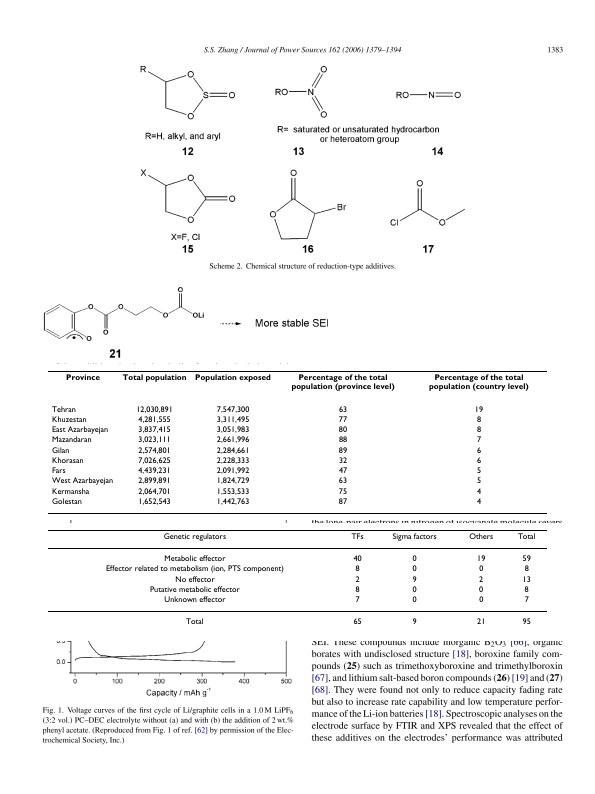borderless: (47, 369, 547, 513), (46, 528, 548, 635)
cell: (290, 374, 395, 392), (428, 374, 529, 392), (104, 565, 284, 575), (148, 585, 240, 595), (194, 374, 271, 383), (162, 532, 227, 542), (121, 374, 187, 383), (50, 477, 114, 486), (163, 555, 226, 564), (163, 596, 226, 605), (50, 426, 109, 435), (391, 532, 437, 542), (174, 575, 215, 585), (50, 487, 90, 497), (135, 405, 173, 415), (50, 436, 92, 445), (50, 415, 87, 425), (215, 405, 250, 415), (215, 415, 250, 425), (215, 446, 250, 456), (215, 456, 250, 466), (215, 487, 250, 497), (215, 497, 250, 507), (137, 415, 171, 425), (137, 446, 171, 456), (50, 456, 84, 466), (137, 456, 171, 466), (137, 487, 171, 497), (137, 497, 171, 507), (50, 497, 82, 507), (65, 374, 100, 383), (215, 426, 250, 435), (215, 436, 250, 445), (215, 467, 250, 476), (215, 477, 250, 486), (137, 426, 171, 435), (137, 436, 171, 445), (137, 467, 171, 476), (137, 477, 171, 486), (50, 405, 76, 415), (468, 532, 494, 542), (50, 446, 70, 456), (516, 532, 536, 542), (185, 618, 204, 628), (50, 467, 66, 476), (350, 532, 364, 542), (337, 405, 348, 415), (473, 405, 484, 415), (337, 415, 348, 425), (337, 446, 348, 456), (337, 456, 348, 466), (337, 487, 348, 497), (337, 497, 348, 507), (521, 575, 531, 585), (352, 618, 362, 628), (476, 618, 486, 628), (521, 618, 531, 628), (337, 426, 348, 435), (337, 436, 348, 445), (337, 467, 348, 476), (337, 477, 348, 486), (352, 555, 362, 564), (476, 555, 486, 564), (521, 555, 531, 564), (475, 456, 482, 466), (475, 497, 482, 507), (475, 426, 482, 435), (475, 436, 482, 445), (475, 467, 482, 476), (475, 477, 482, 486), (475, 415, 481, 425), (475, 446, 481, 456), (475, 487, 481, 497), (354, 565, 360, 575), (411, 565, 417, 575), (478, 565, 484, 575), (523, 565, 529, 575), (354, 575, 360, 585), (411, 575, 417, 585), (478, 575, 484, 585), (354, 585, 360, 595), (411, 585, 417, 595), (478, 585, 484, 595), (523, 585, 529, 595), (411, 618, 417, 628), (411, 555, 417, 564), (354, 596, 360, 605), (411, 596, 417, 605), (478, 596, 484, 605), (523, 596, 529, 605)
